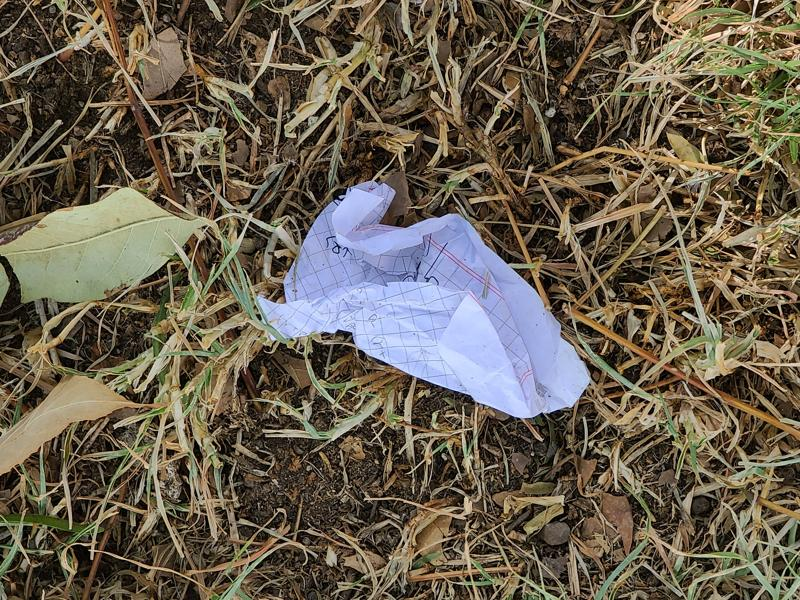papel: (259, 181, 591, 421)
